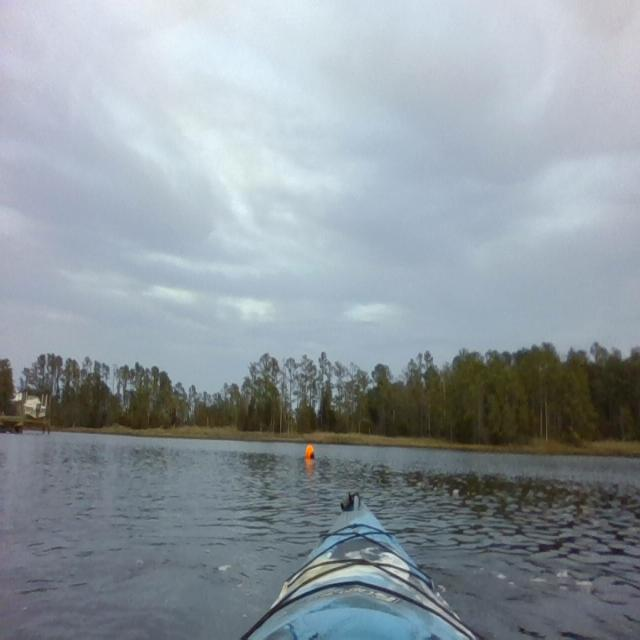Buoy: (303, 442, 317, 462)
